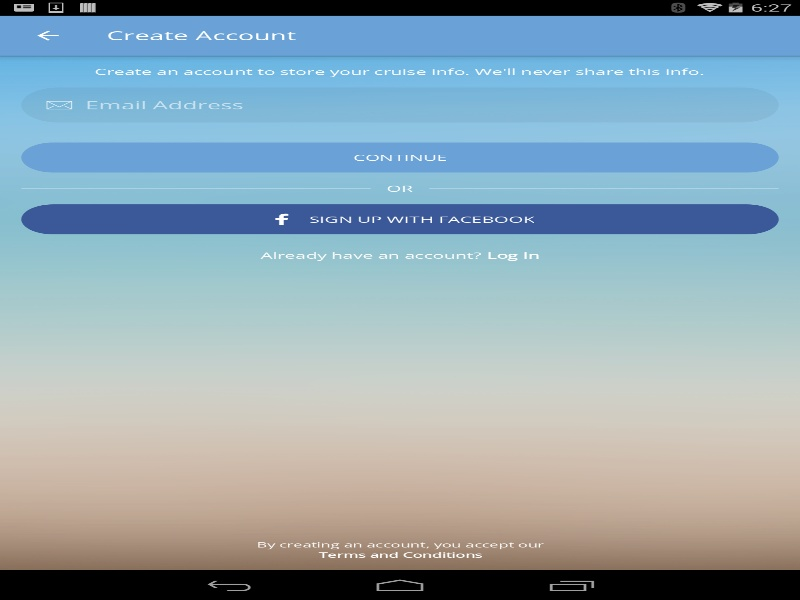Button: (21, 142, 778, 172), (10, 15, 85, 55)
Input: (21, 87, 778, 122)
